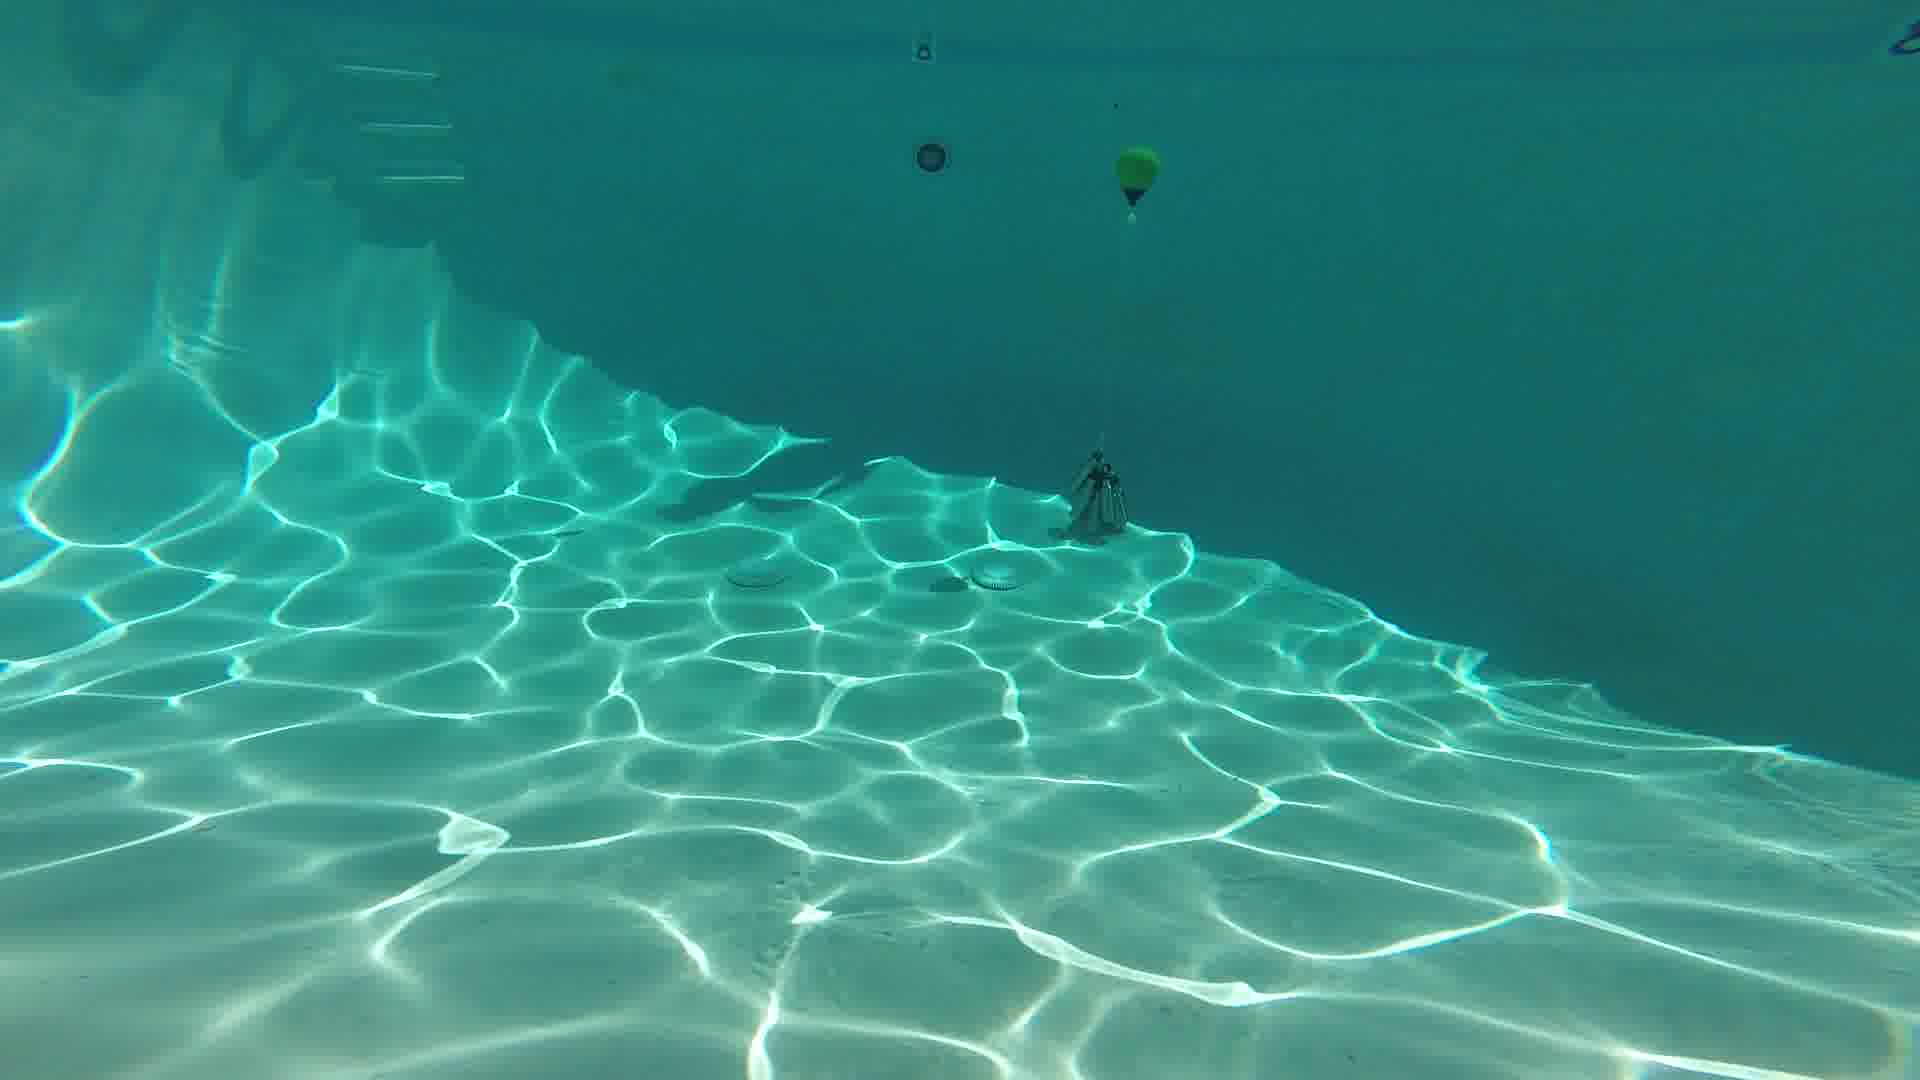yellow_buoy: (1116, 146, 1159, 206)
